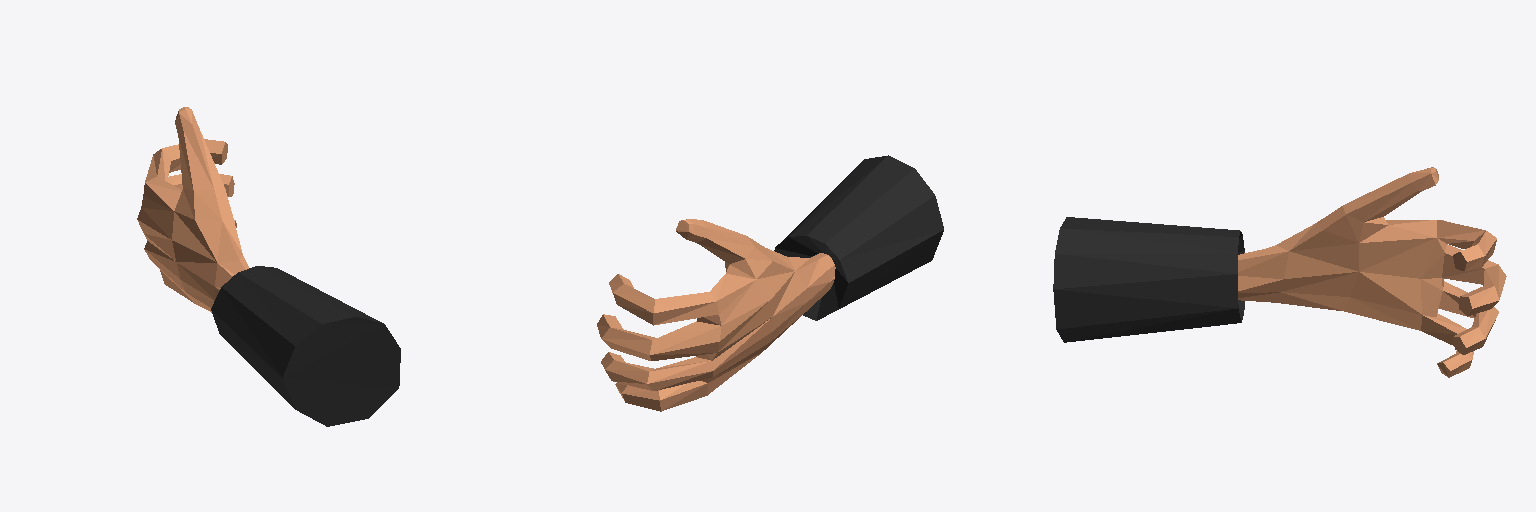
The picture shows the model from 3 angles: view 1: azimuth 30°, elevation 25°; view 2: azimuth 150°, elevation 25°; view 3: azimuth 270°, elevation 25°; orthographic projection.
Parts seen in each view (by area): view 1: hand_left; view 2: hand_left; view 3: hand_left.
Boxes of the visible parts, <box> form: hand_left: <box>137,107,400,426</box>; hand_left: <box>597,155,943,411</box>; hand_left: <box>1053,167,1506,377</box>.
Size of the model in its own units: 0.111 by 0.1287 by 0.2906.
1 materials, 1 textured.